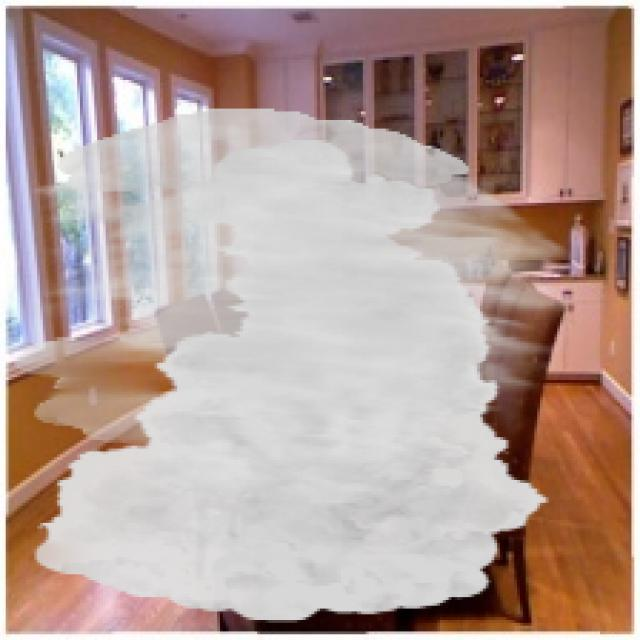Smoke: (14, 108, 572, 623)
